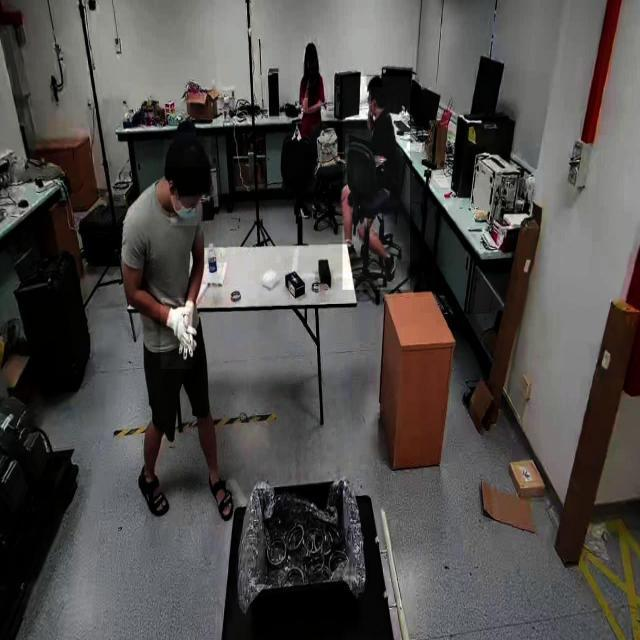gloves: (160, 298, 193, 370)
